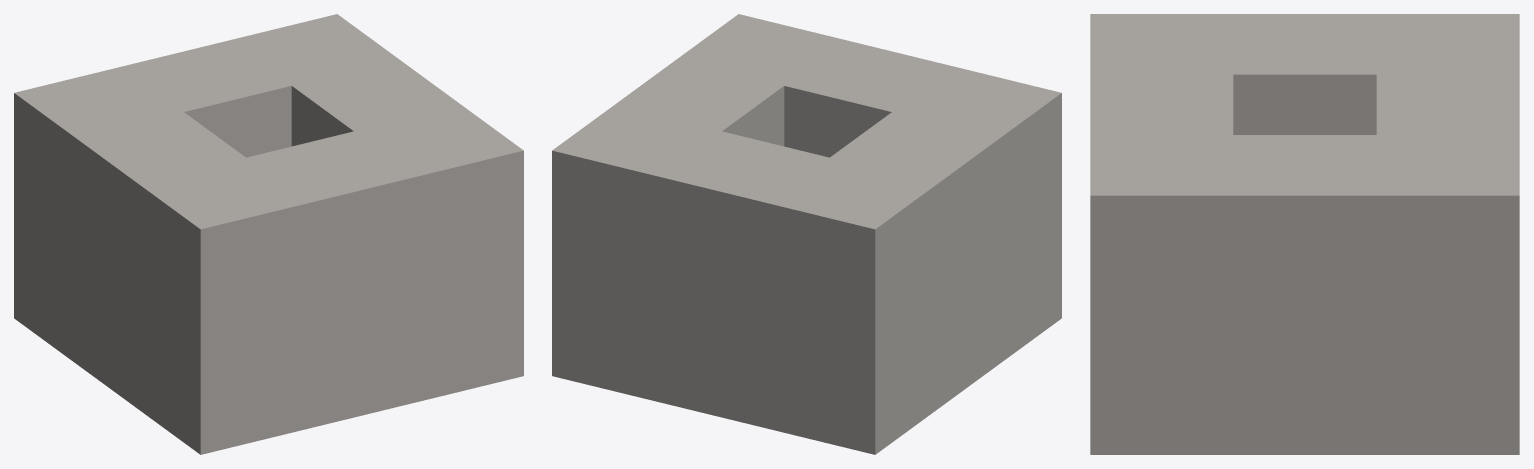
File: church-35-lanternglass.glb
3 views of the same model, side by side, from view 1: azimuth 30°, elevation 25°; view 2: azimuth 150°, elevation 25°; view 3: azimuth 270°, elevation 25° (orthographic). The views are drawn at different scales.
Parts seen in each view (by area): view 1: lanternglass; view 2: lanternglass; view 3: lanternglass.
Part boxes in pixels (bbox=[...]): lanternglass: bbox=[14, 14, 523, 454]; lanternglass: bbox=[552, 14, 1061, 454]; lanternglass: bbox=[1090, 14, 1519, 454].
Size of the model in its own units: 0.3 by 0.2 by 0.3.
Materials: 1 (1 with a texture image).
